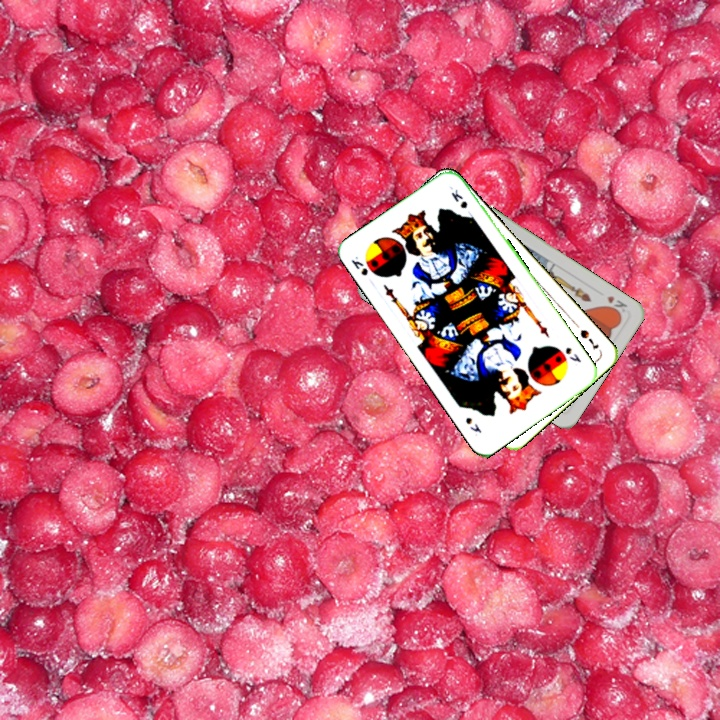HK: (601, 292, 630, 319)
S7: (576, 325, 601, 353)
SK: (347, 252, 371, 278), (561, 343, 584, 365)
